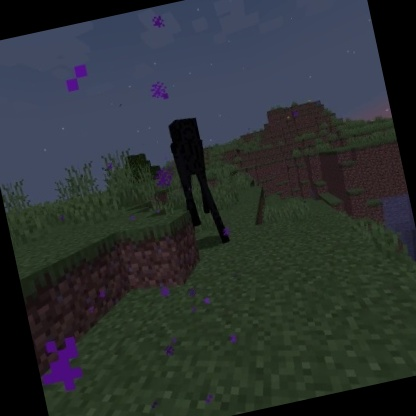enderman: (162, 111, 234, 253)
